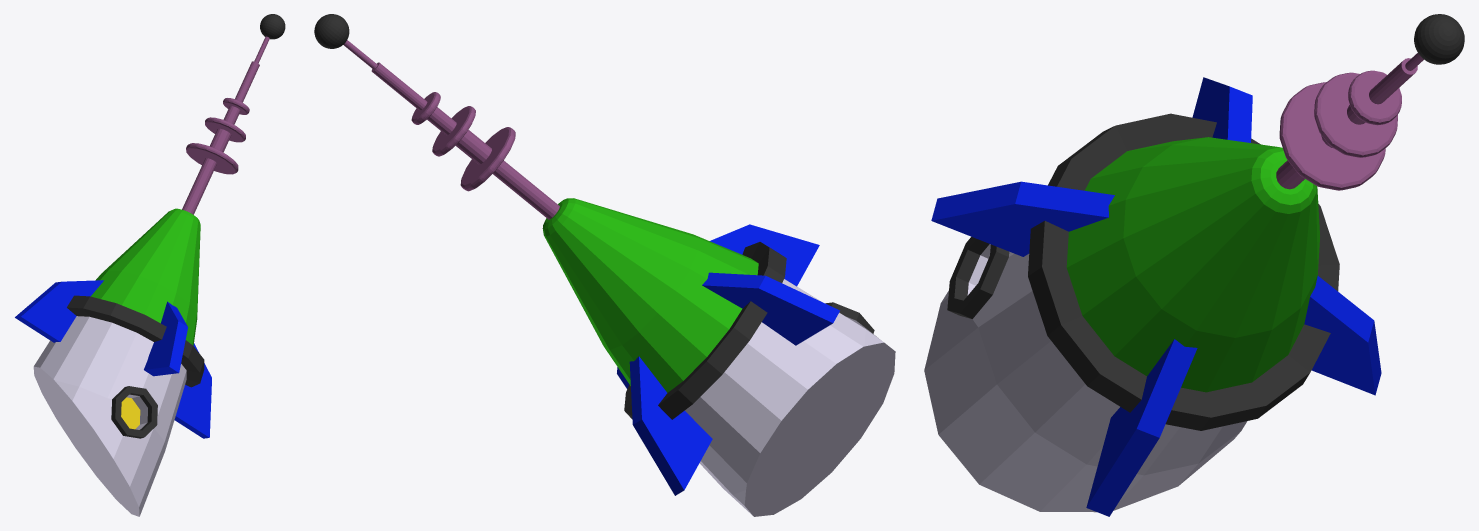
Rendered from top_broken_ship.fbx.
The picture shows the model from 3 angles, left to right: view 1: azimuth 30°, elevation 25°; view 2: azimuth 150°, elevation 25°; view 3: azimuth 270°, elevation 25°; orthographic projection. The views are drawn at different scales.
Parts seen in each view (by area): view 1: SpaceRocket; view 2: SpaceRocket; view 3: SpaceRocket.
Part boxes in pixels (bbox=[...]): SpaceRocket: bbox=[15, 14, 285, 516]; SpaceRocket: bbox=[314, 14, 895, 516]; SpaceRocket: bbox=[924, 14, 1464, 516].
Bounding box in the file's own units: 1721 × 1869 × 1254.
